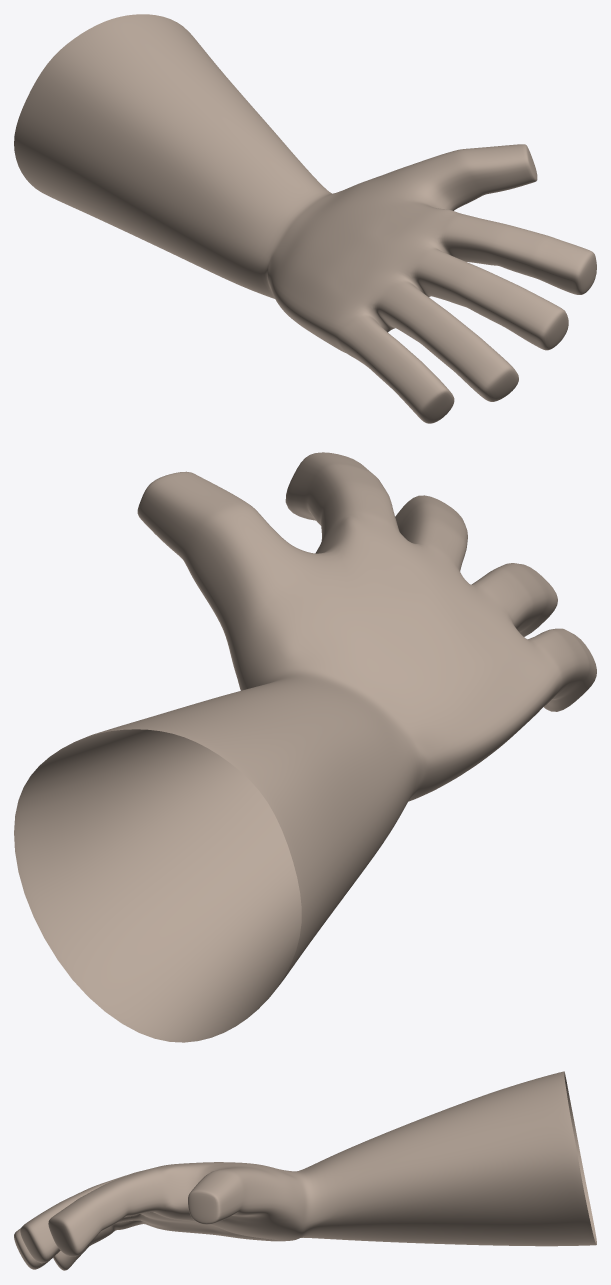
File: Grab.fbx
3 views of the same model, one above another, from view 1: azimuth 30°, elevation 25°; view 2: azimuth 150°, elevation 25°; view 3: azimuth 270°, elevation 25° (orthographic). The views are drawn at different scales.
Visible parts, largest first — view 1: Carrying:Grab; view 2: Carrying:Grab; view 3: Carrying:Grab.
Part boxes in pixels (left/top/right/bottom): Carrying:Grab: left=14, top=14, right=596, bottom=423; Carrying:Grab: left=14, top=452, right=596, bottom=1042; Carrying:Grab: left=14, top=1071, right=596, bottom=1270.
Bounding box in the file's own units: 31.58 × 19.48 × 58.21.
